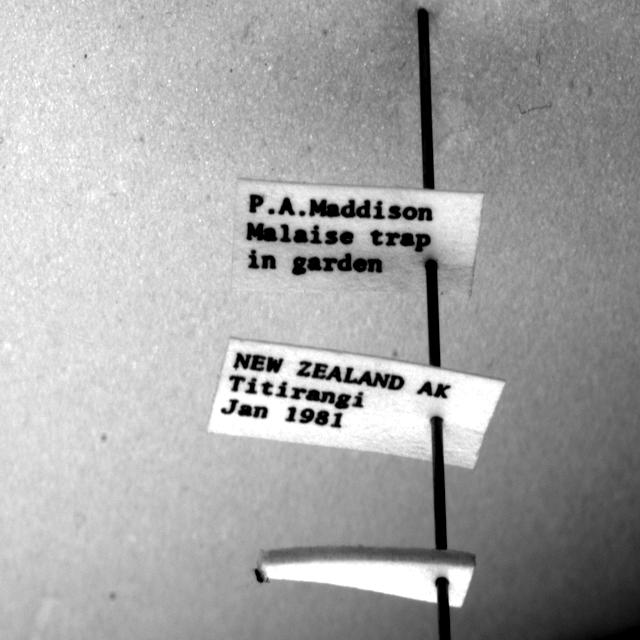typed_label: (209, 339, 504, 469), (231, 180, 484, 296)
